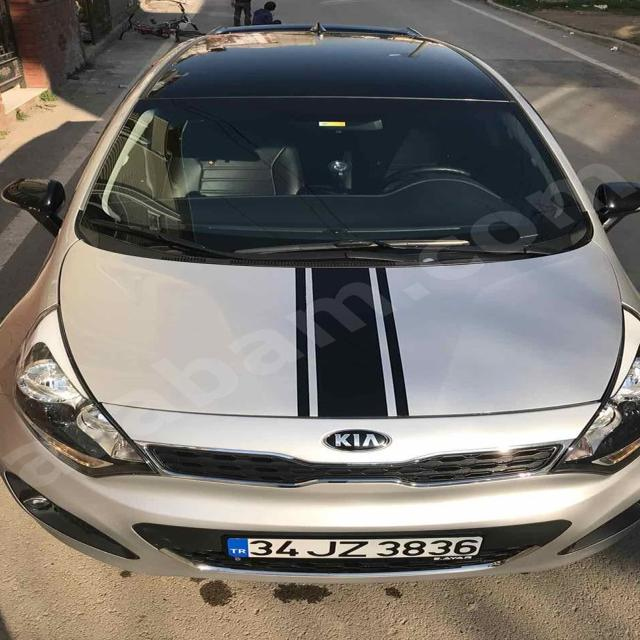license_plate: (226, 536, 484, 560)
